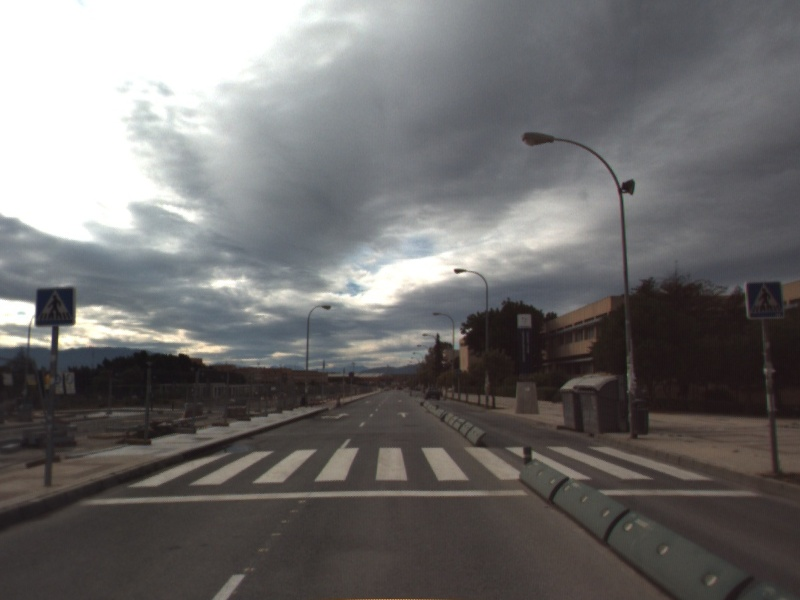STRAIGHT: (395, 410, 410, 419)
STRAIGHT_LEFT: (319, 411, 352, 422)
